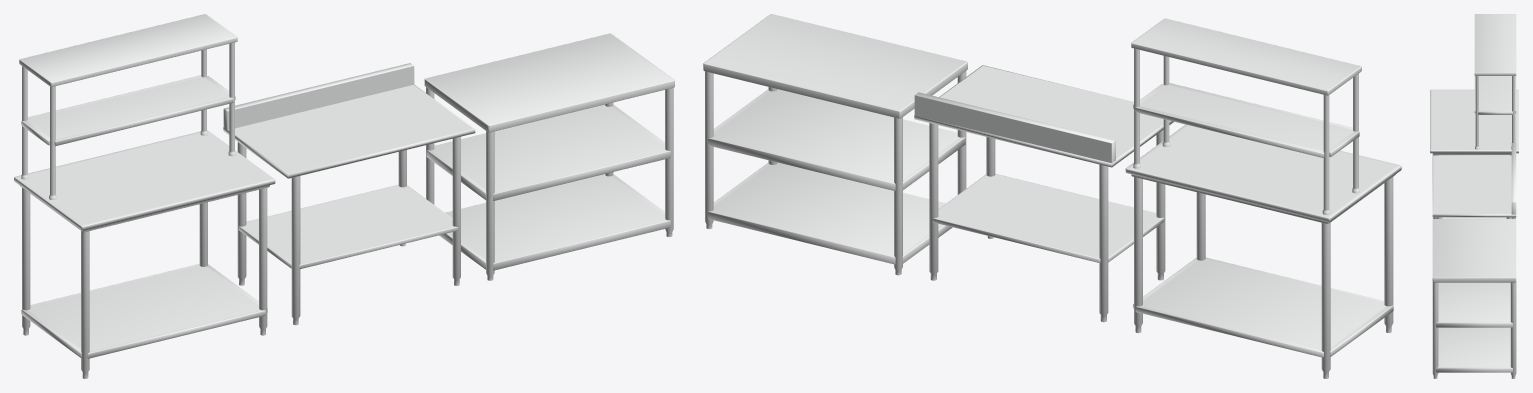
The model's file is Meja Persiapan.fbx.
The picture shows the model from 3 angles, left to right: view 1: azimuth 30°, elevation 25°; view 2: azimuth 150°, elevation 25°; view 3: azimuth 270°, elevation 25°; orthographic projection. The views are drawn at different scales.
Parts seen in each view (by area): view 1: Worktop, Preparation Table, Work Table; view 2: Worktop, Preparation Table, Work Table; view 3: Preparation Table, Worktop, Work Table.
Boxes of the visible parts, x1,y1,x2,y2 form: Worktop: (14, 14, 275, 378); Preparation Table: (424, 33, 674, 280); Work Table: (223, 63, 475, 325); Worktop: (1125, 18, 1401, 378); Preparation Table: (703, 14, 967, 275); Work Table: (914, 65, 1173, 322); Preparation Table: (1432, 219, 1516, 378); Worktop: (1430, 14, 1518, 218); Work Table: (1432, 143, 1516, 218).
Size of the model in its own units: 319 by 140 by 63.58.
Materials: 1 (1 with a texture image).
